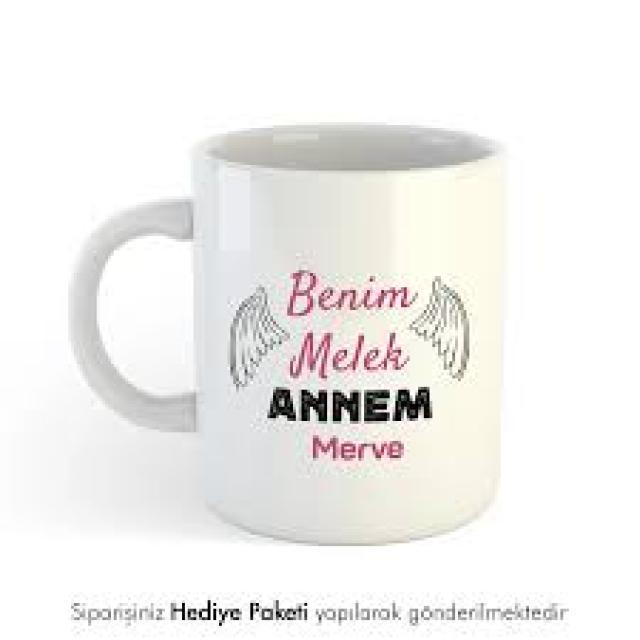taza: (65, 121, 506, 545)
